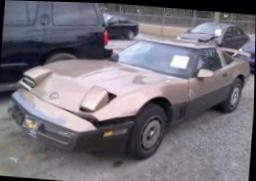Bumper: (9, 92, 134, 157)
Light: (69, 79, 125, 115)
